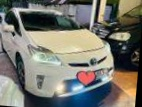car: (0, 4, 119, 105), (91, 0, 142, 65)
